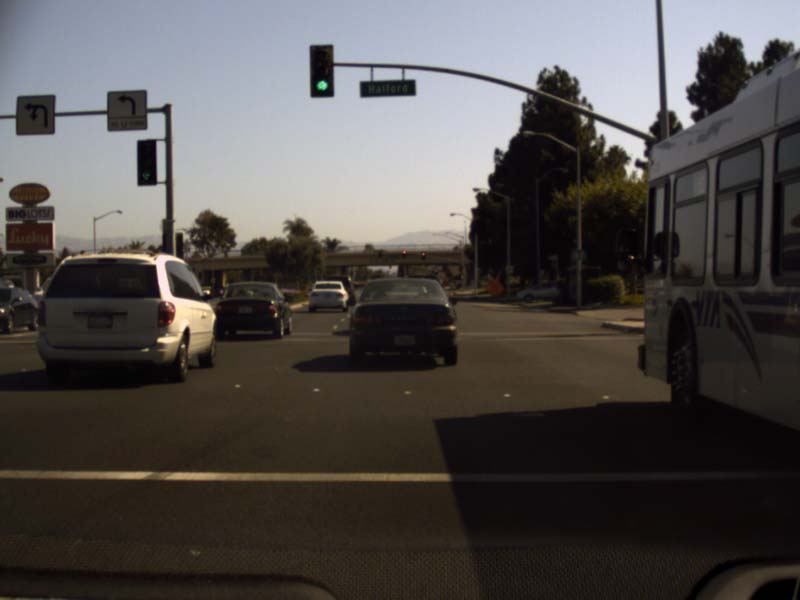Green: (308, 45, 333, 97), (136, 139, 155, 186)
Red: (421, 251, 425, 260), (401, 250, 405, 256)
